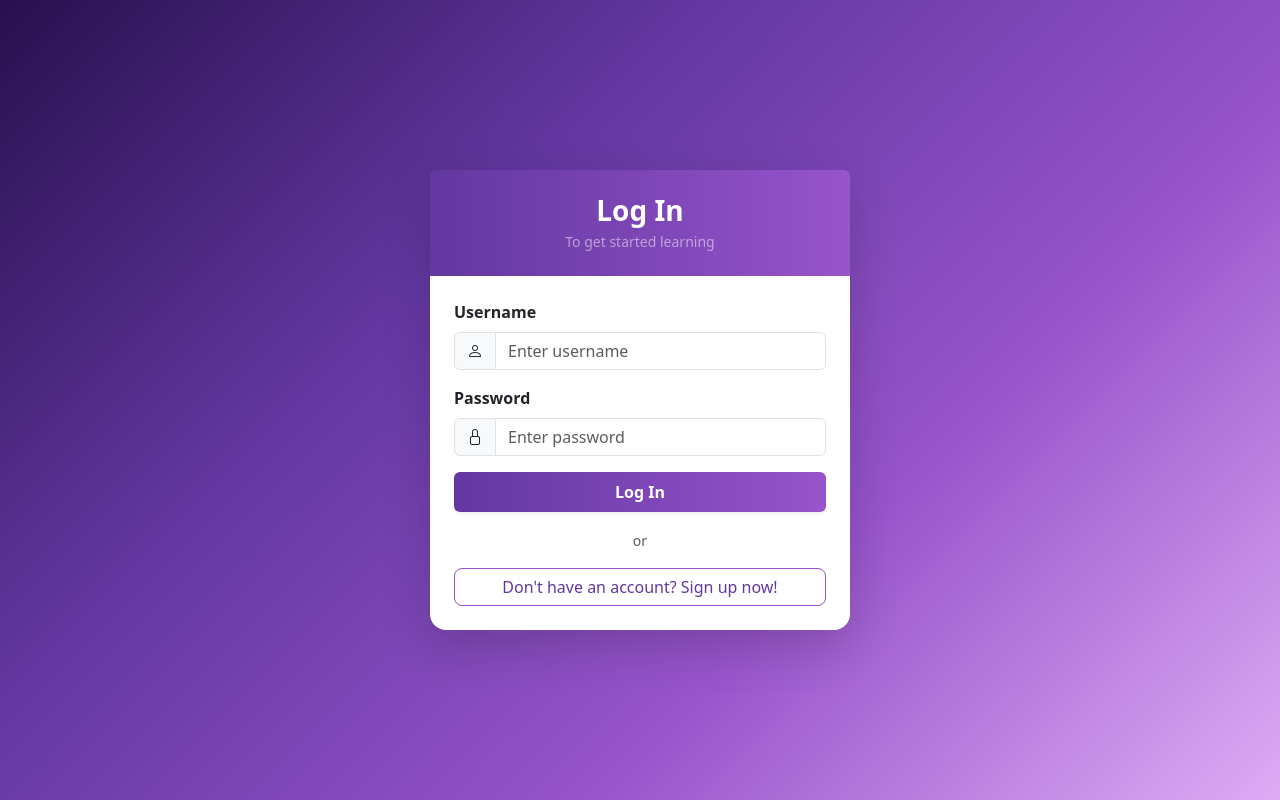
Test case: Chat Application - Comprehensive E2E Tests › 1. Authentication Flow › should show password requirements during signup
Click the button "Don't have an account? Sign up now!".
click(640, 587)  # box top-left (454, 568), bottom-right (826, 606)
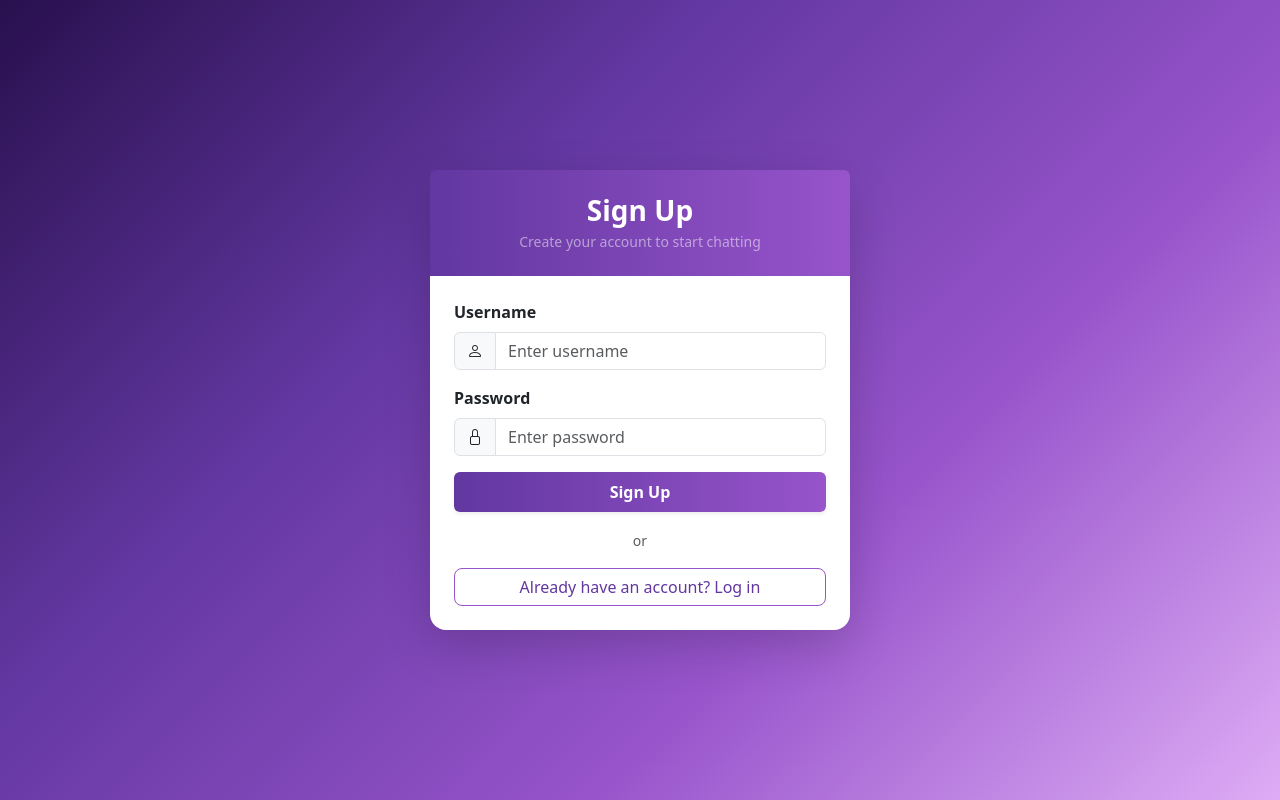
Type "testuser" into the field named "username".
click(661, 351); type("testuser")  # box top-left (495, 332), bottom-right (826, 370)
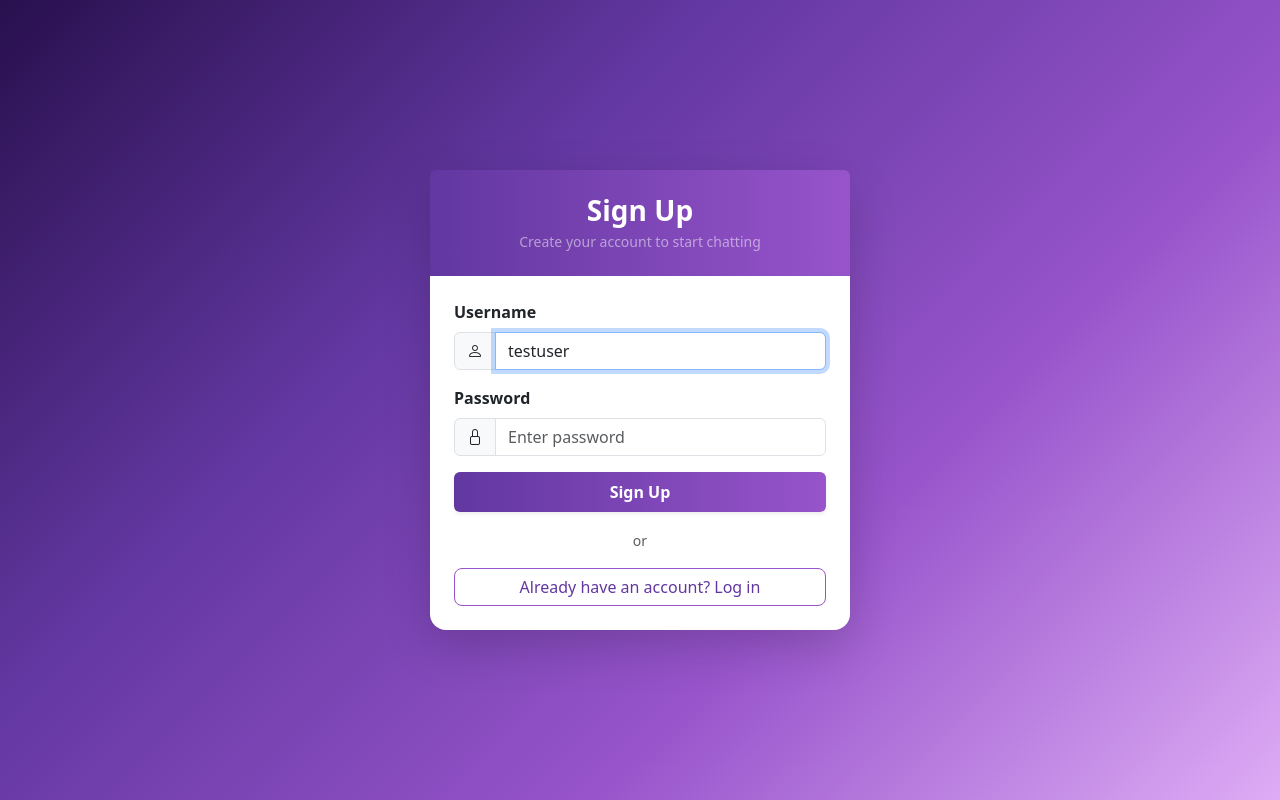
Type "weak" into the password field named "password".
click(661, 437); type("weak")  # box top-left (495, 418), bottom-right (826, 456)
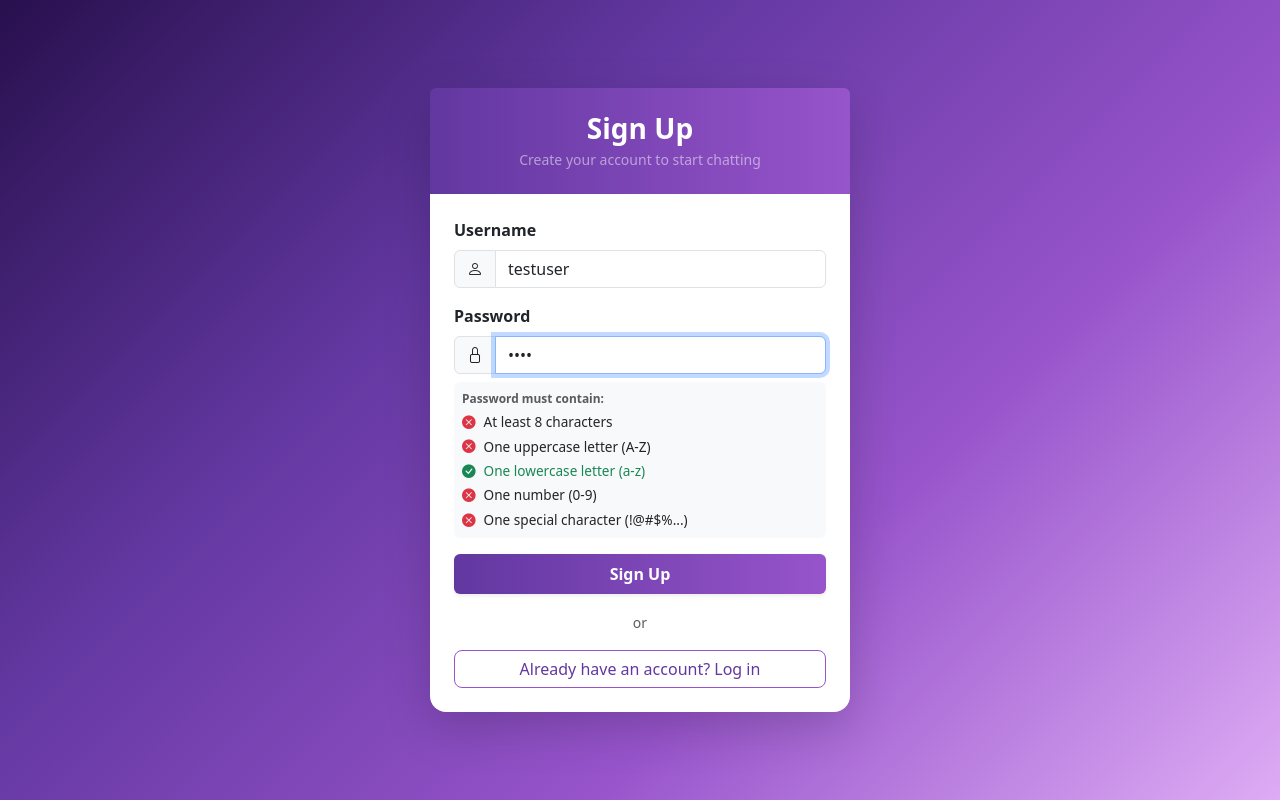
Check: the text "At least 8 characters" is shown, box top-left (484, 412), bottom-right (612, 433)
Check: the text "One uppercase letter" is shown, box top-left (484, 437), bottom-right (651, 456)
Check: the text "One number" is shown, box top-left (484, 485), bottom-right (597, 504)
